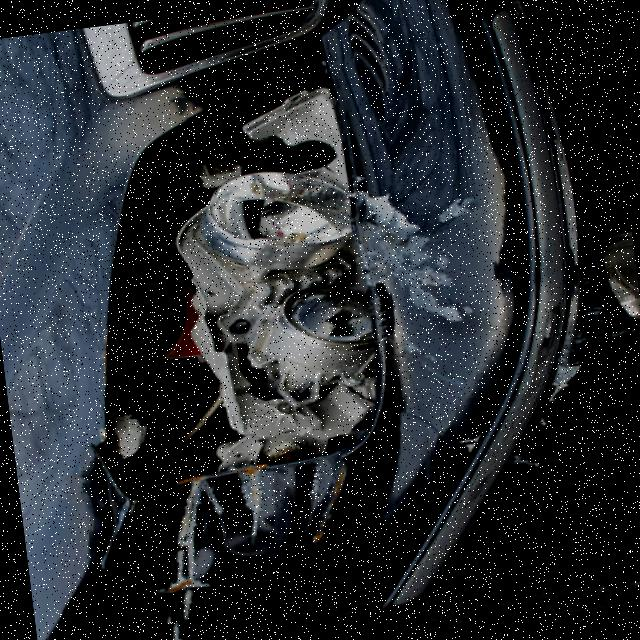Head Light: (93, 82, 431, 494)
